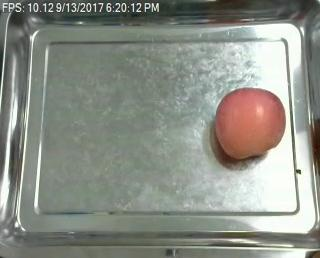apple: (216, 87, 287, 161)
